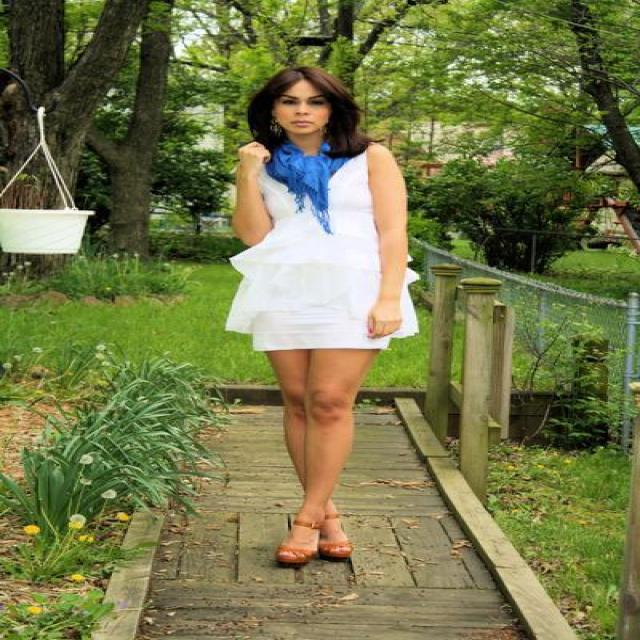dress: (225, 152, 418, 350)
shoe: (269, 547, 352, 579)
